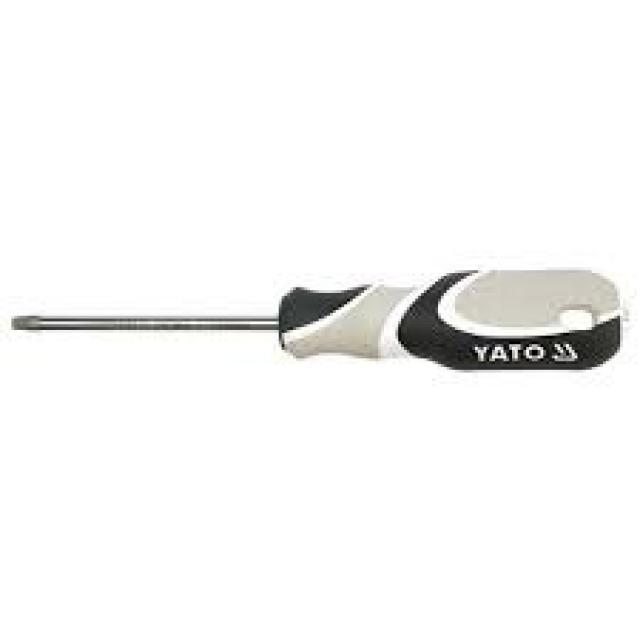screwdriver: (6, 258, 623, 372)
